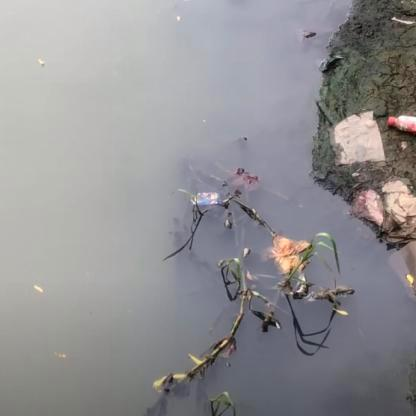Plastic: (387, 102, 415, 138), (190, 190, 220, 208)
